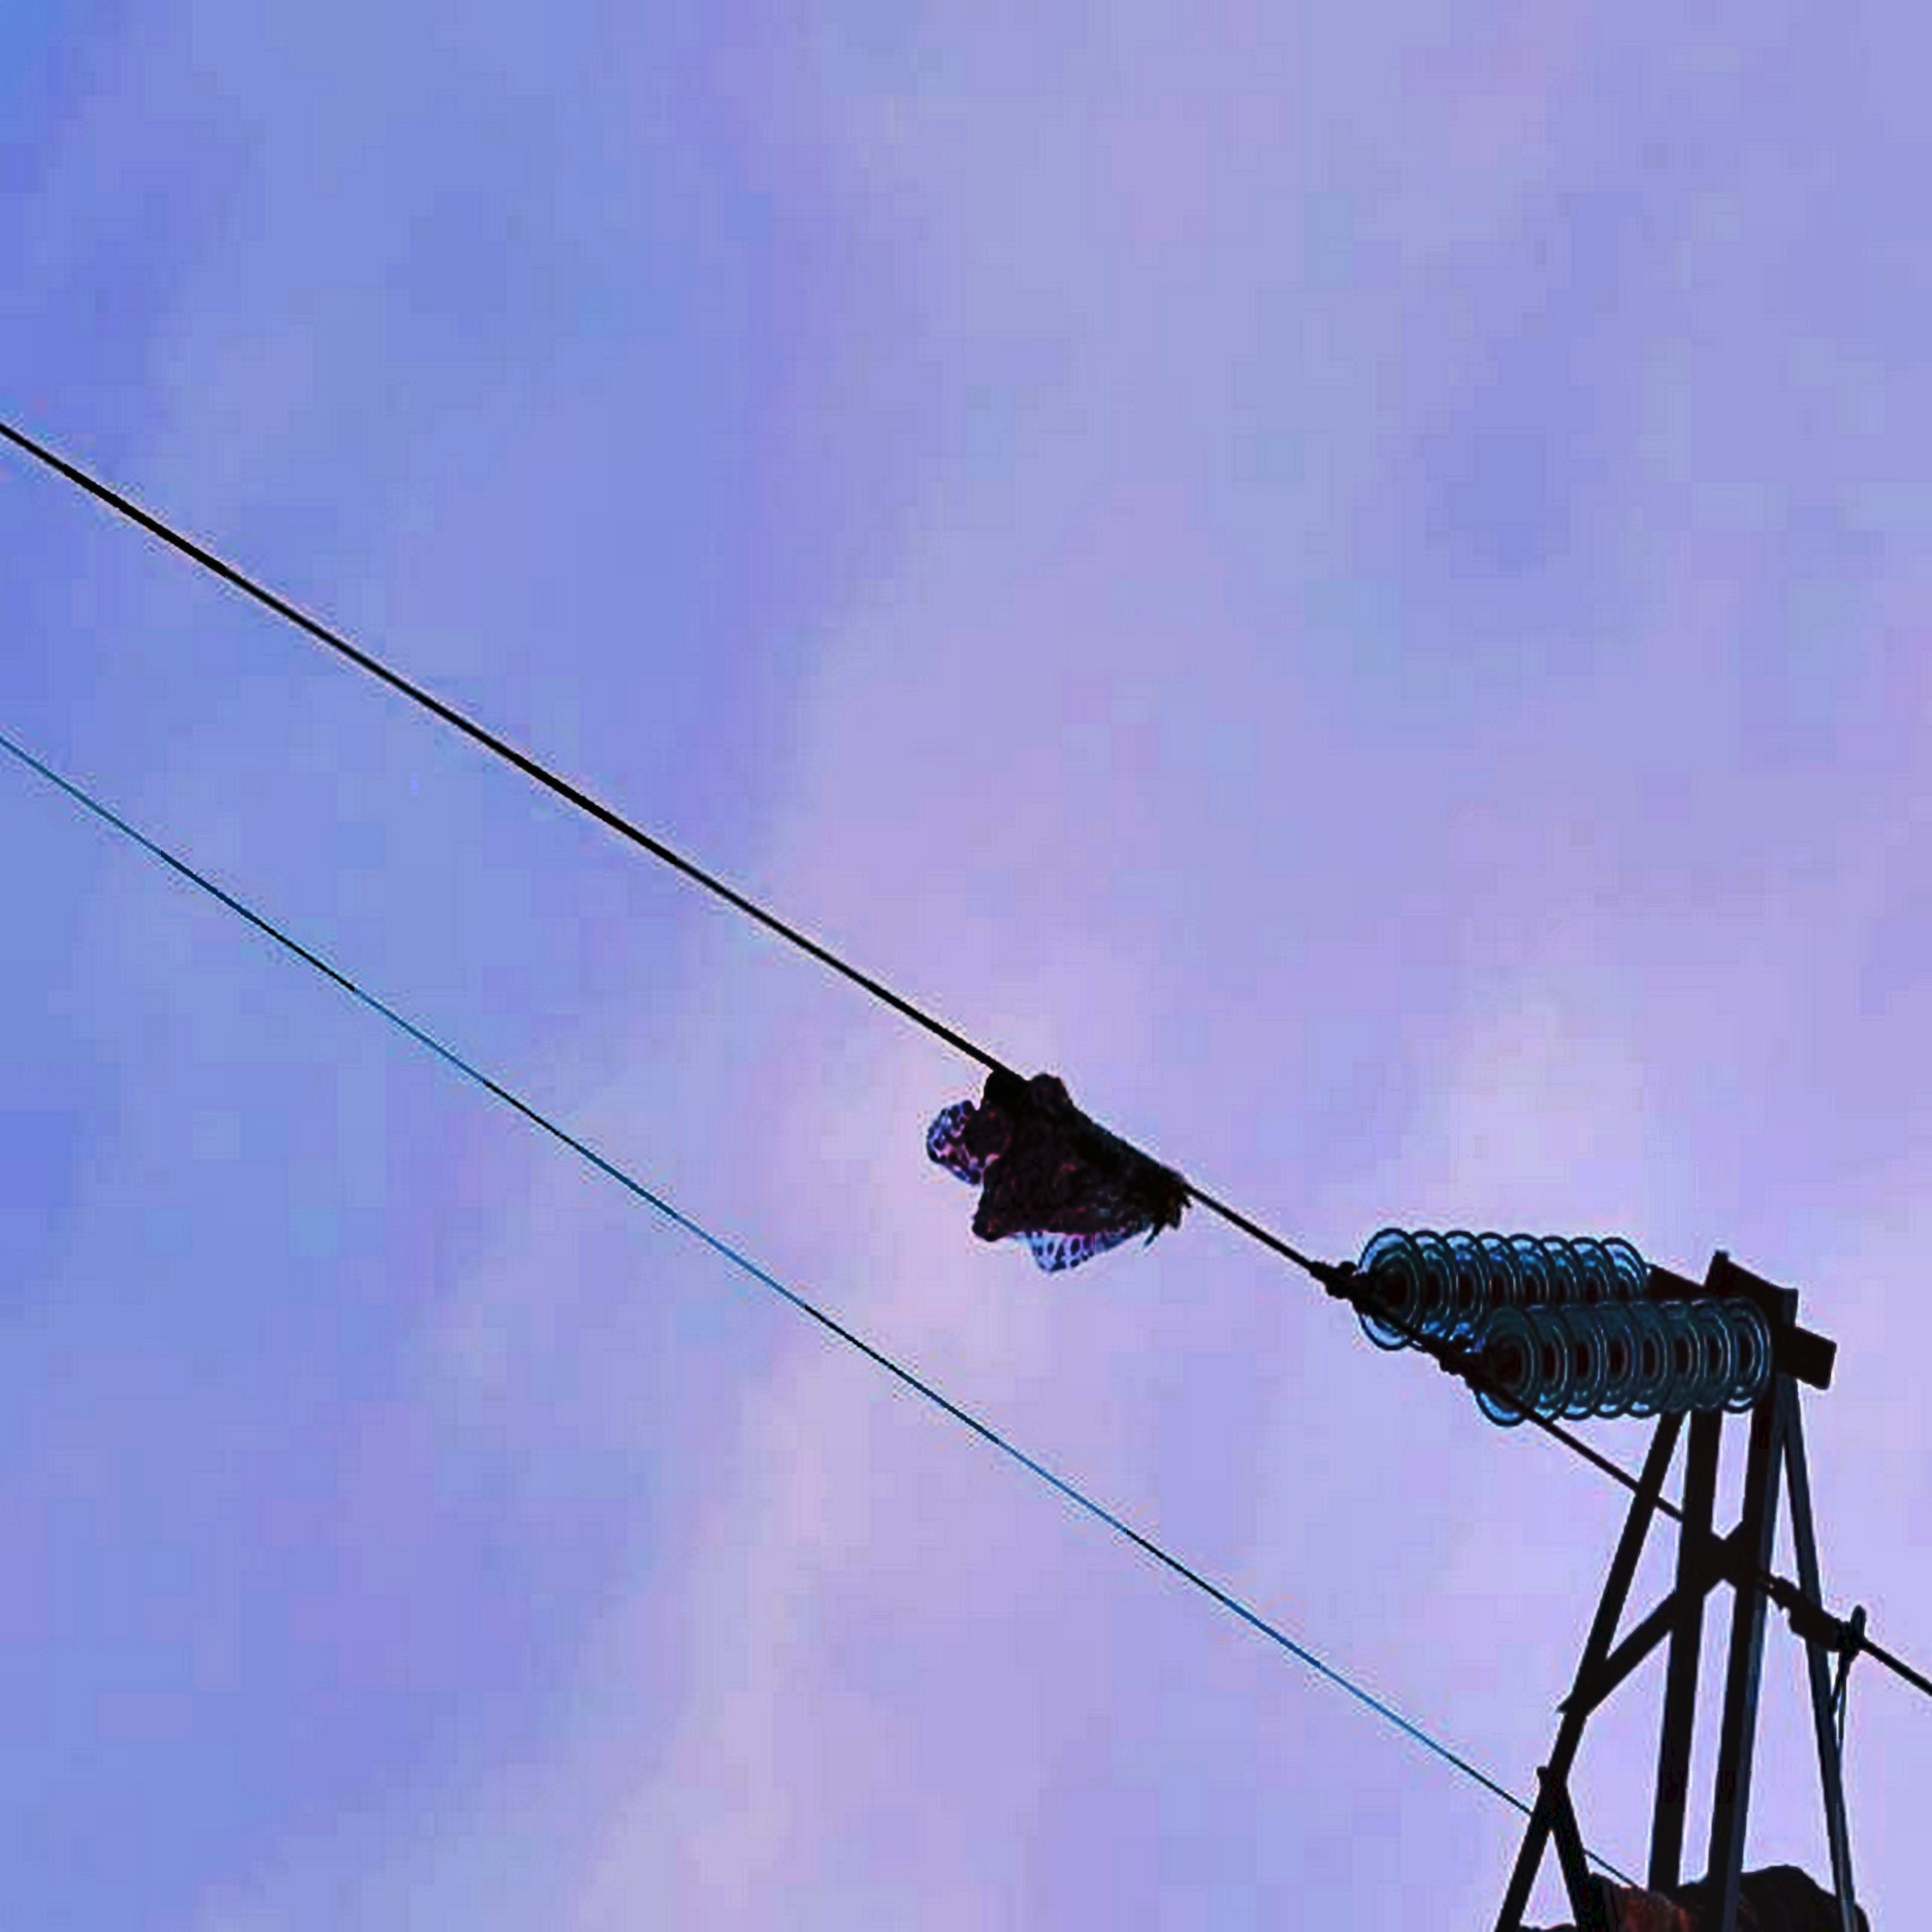wire foreign body: (883, 1019, 1223, 1283)
